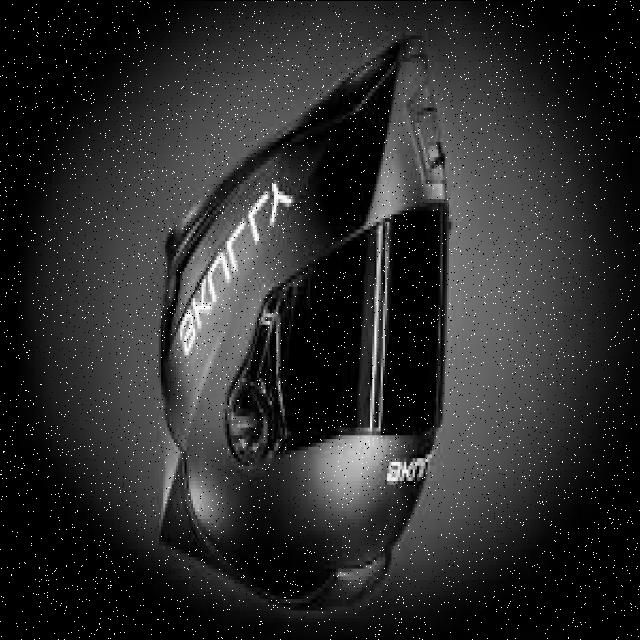Helmet: (162, 40, 448, 609)
